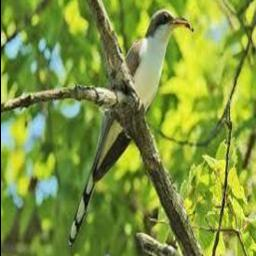Cuckoo: (69, 9, 190, 244)
